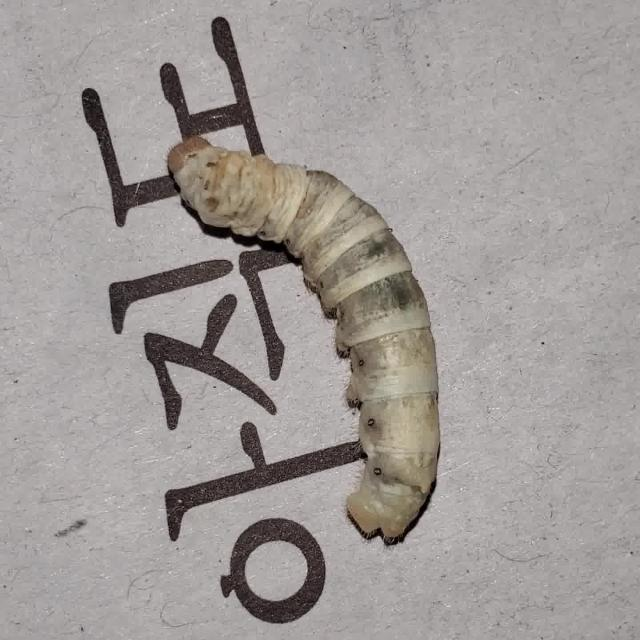Grasserie: (124, 83, 556, 564)
